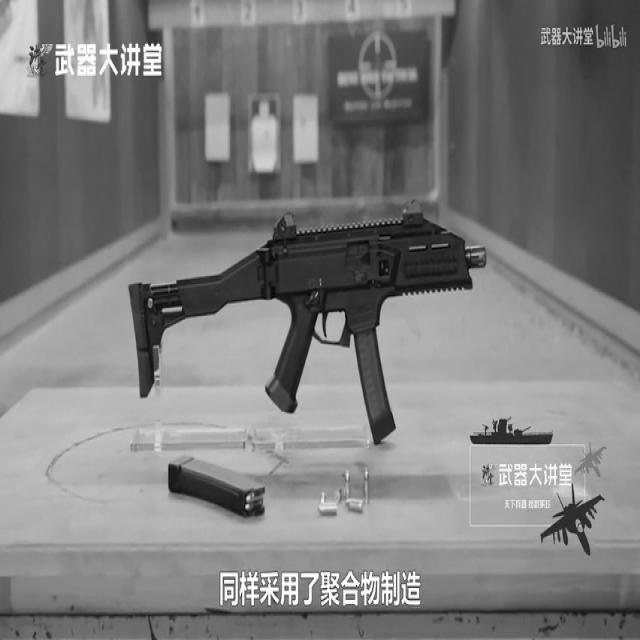Rifle: (95, 112, 520, 562)
